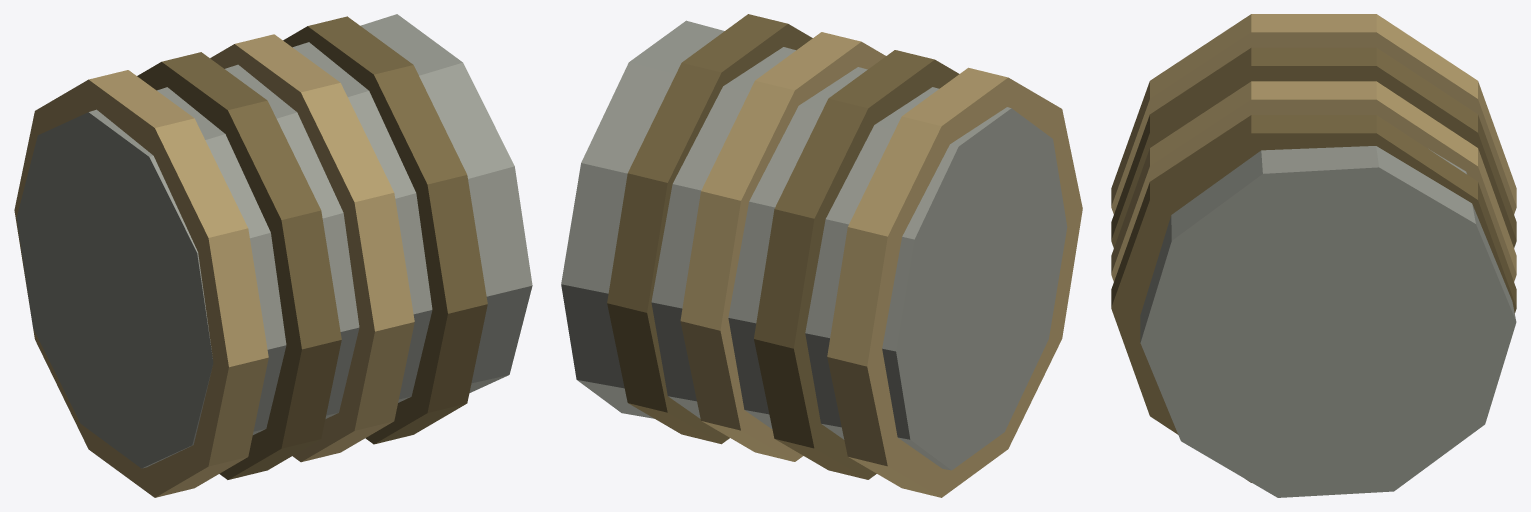
The model's file is stone_giant_bracer_r.glb.
3 views of the same model, side by side, from view 1: azimuth 30°, elevation 25°; view 2: azimuth 150°, elevation 25°; view 3: azimuth 270°, elevation 25° (orthographic). The views are drawn at different scales.
Parts seen in each view (by area): view 1: stone_giant_bracer_r; view 2: stone_giant_bracer_r; view 3: stone_giant_bracer_r.
Part boxes in pixels (box(x1,y1,x2,y2)): stone_giant_bracer_r: box(14, 14, 532, 497); stone_giant_bracer_r: box(561, 14, 1082, 497); stone_giant_bracer_r: box(1111, 14, 1516, 497).
Bounding box in the file's own units: 0.2504 × 0.2663 × 0.28.
